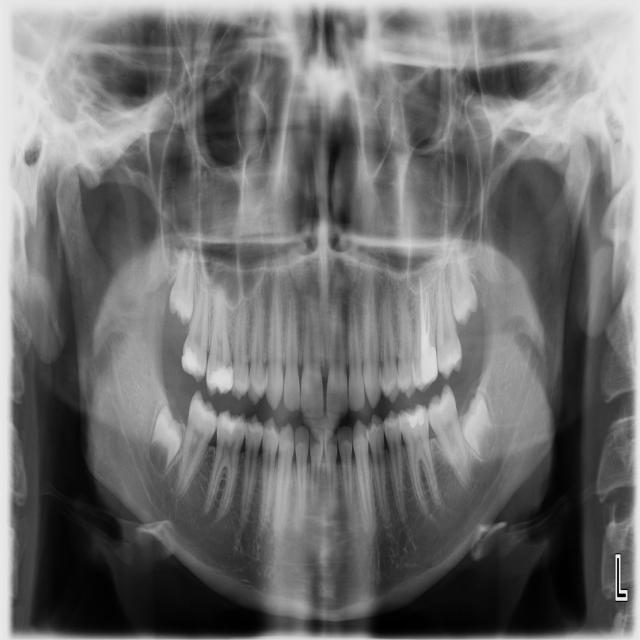mandibula: (59, 128, 592, 627)
